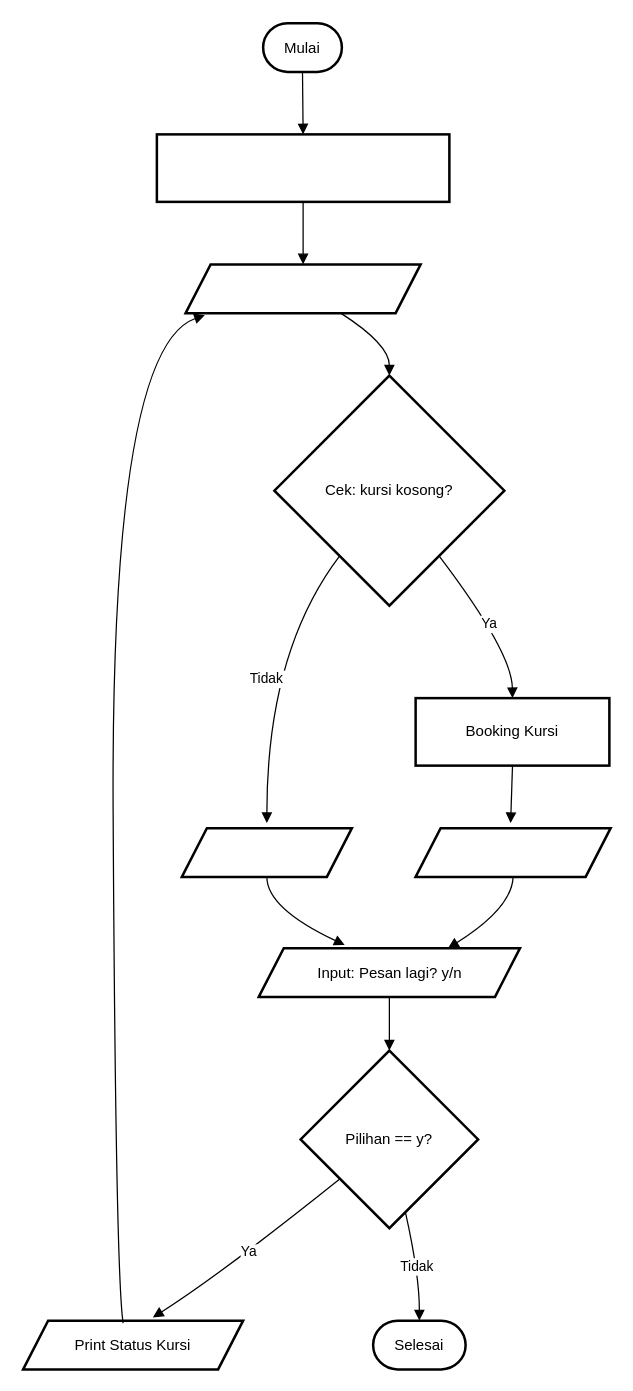
Some shapes in this 633 by 1391 pixel diagram are drawn without their labels. Here are the shapes that lost their labels. From the top down, the box of each, then its label:
(155, 132, 450, 202): Inisialisasi kursi 1-10 = 0
(184, 262, 421, 314): Input: Nomor Kursi
(180, 826, 352, 878): Print: Terisi
(414, 826, 611, 878): Print: Berhasil
